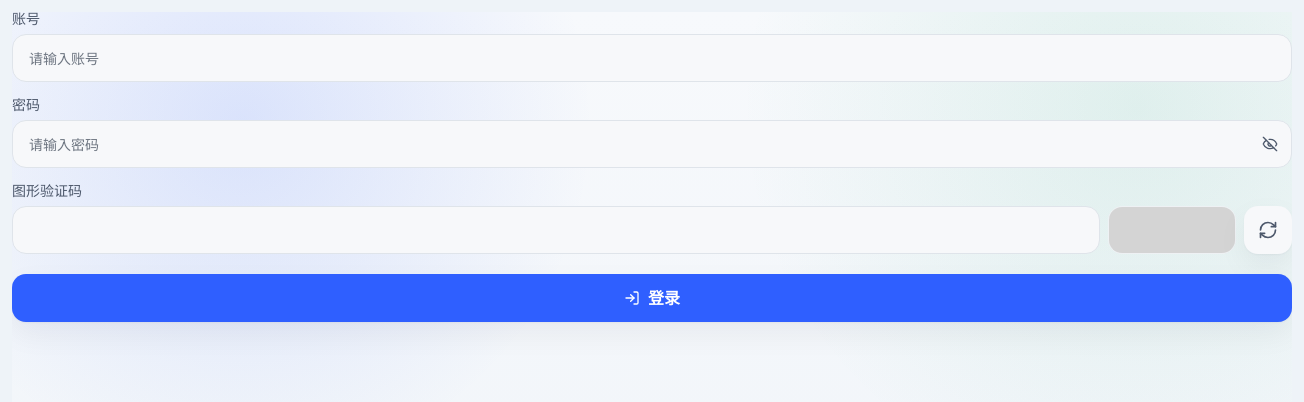
Test: UserAuthForm › renders a form-level error when login fails
The image size is (1304, 402).
Type "admin" into the field labelled "账号". click: (652, 58)
box: [12,34,1292,82]
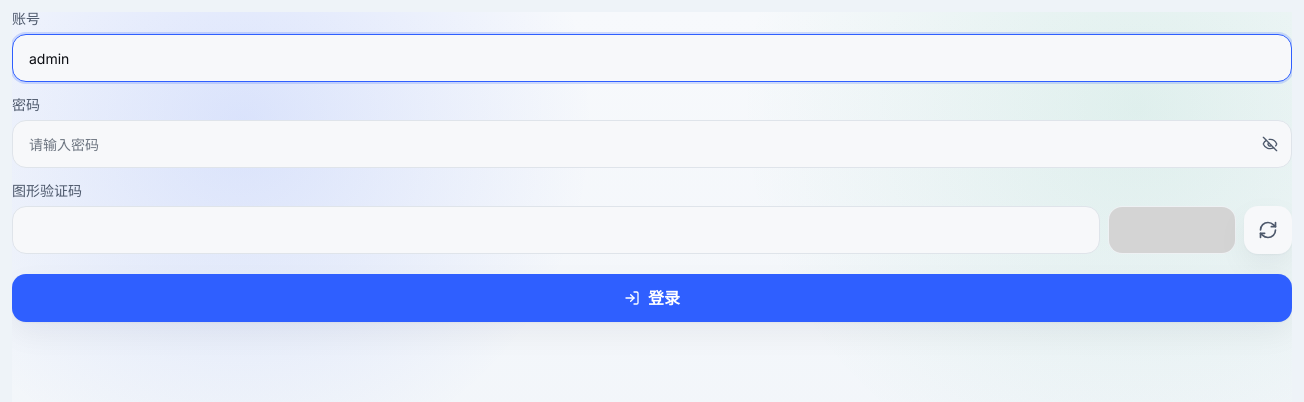
Type "wrong" into the password field labelled "密码". click: (652, 144)
box: [12,120,1292,168]
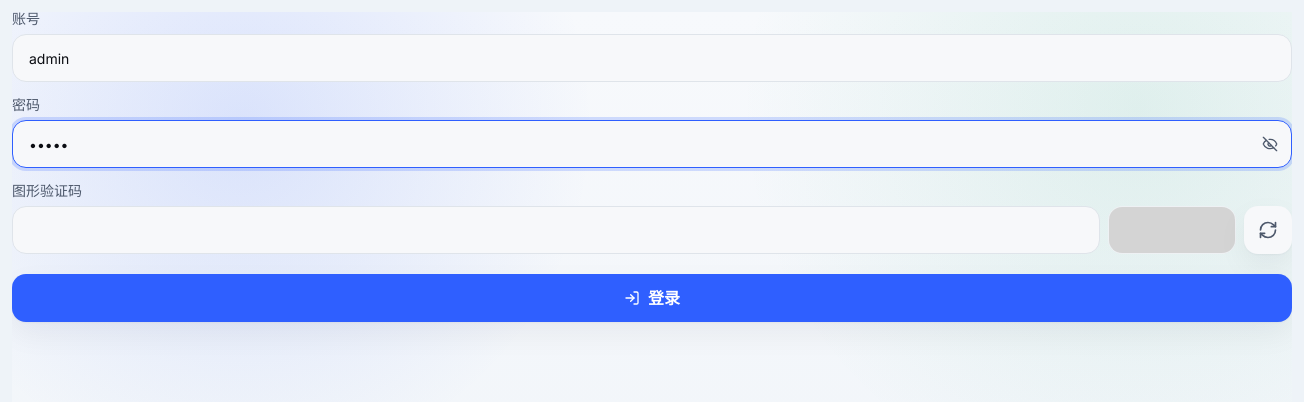
Type "A7K2" into the field labelled "图形验证码". click: (556, 230)
box: [12,206,1100,254]
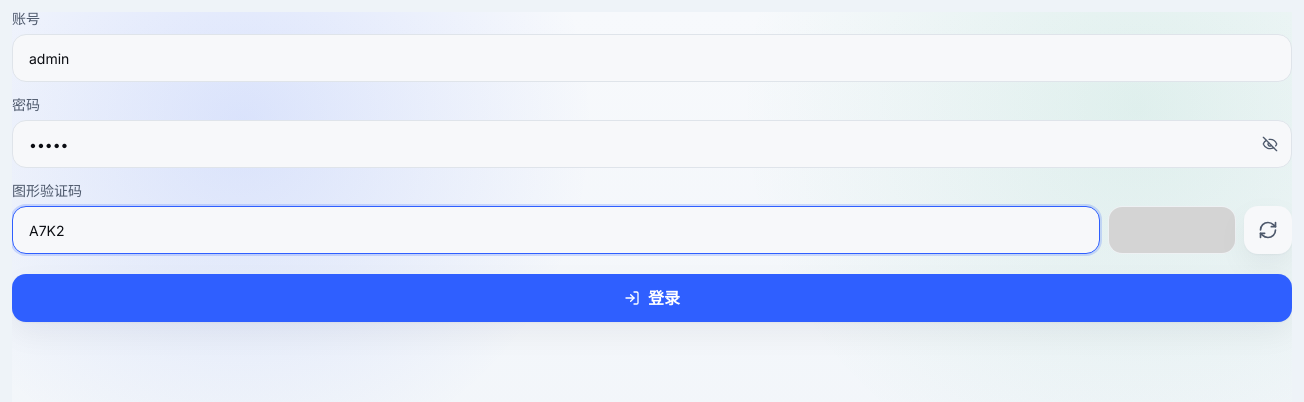
Click the button "登录". click: click(652, 298)
box: [12,274,1292,322]
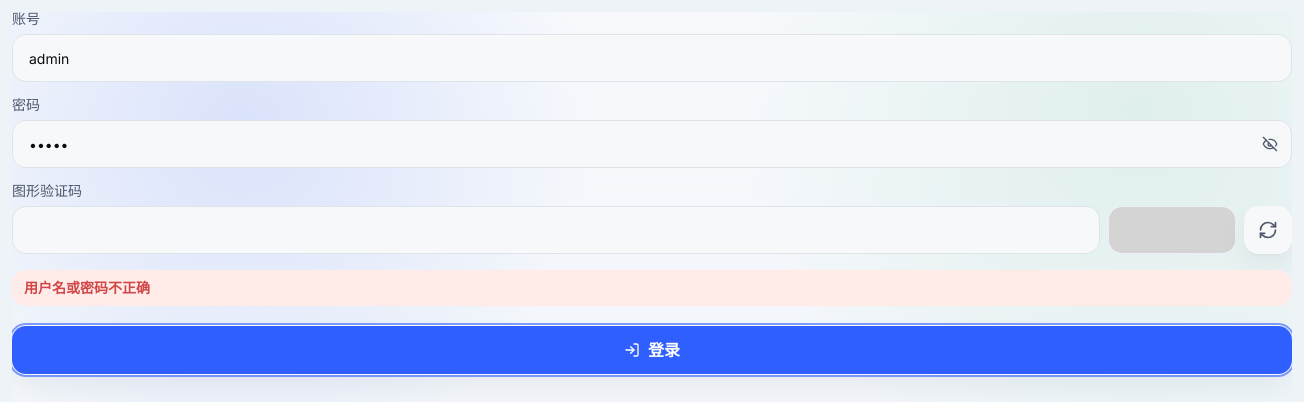
Expected: the text "用户名或密码不正确" is shown, [12,270,1292,306]
Expected: the field labelled "图形验证码" is empty, [12,206,1100,254]
